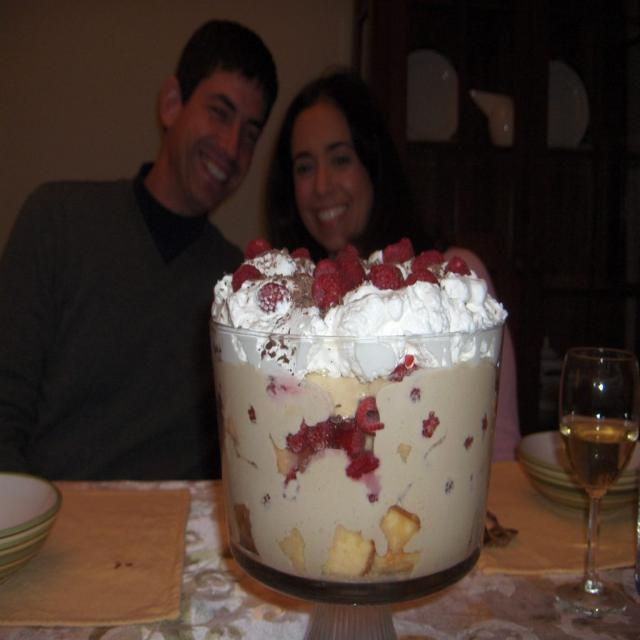Ice cream: (209, 245, 501, 577)
